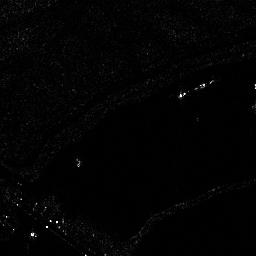ship: (177, 78, 215, 98)
